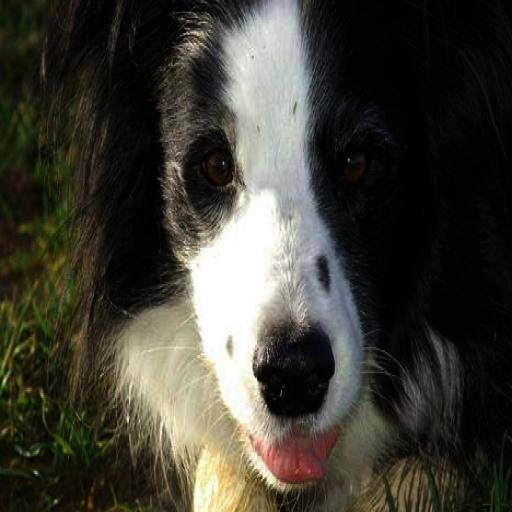dog_face: (59, 0, 508, 477)
